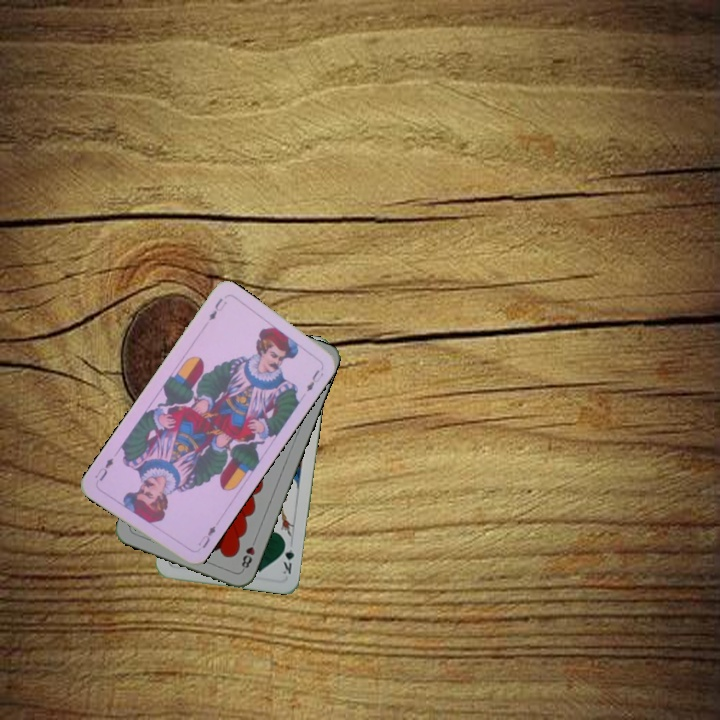EU: (205, 294, 230, 323), (194, 521, 218, 551)
GK: (279, 537, 296, 577)
H8: (237, 534, 259, 573)
